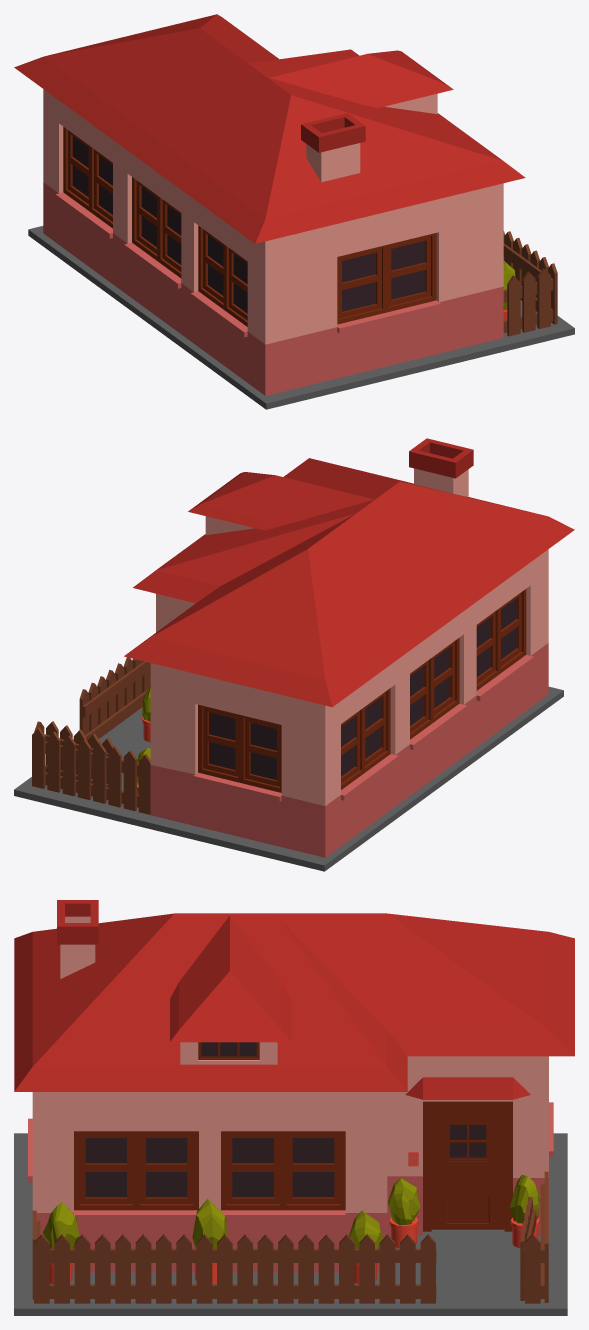
Rendered from low_poly_house_3.glb.
3 views of the same model, one above another, from view 1: azimuth 30°, elevation 25°; view 2: azimuth 150°, elevation 25°; view 3: azimuth 270°, elevation 25° (orthographic). The views are drawn at different scales.
Parts seen in each view (by area): view 1: PublicBuilding_5; view 2: PublicBuilding_5; view 3: PublicBuilding_5.
Part boxes in pixels (<box>): PublicBuilding_5: <box>14,14,574,409</box>; PublicBuilding_5: <box>14,438,574,871</box>; PublicBuilding_5: <box>14,900,574,1315</box>.
Size of what is drawn, in the model's own units: 3.68 by 2.66 by 4.81.
Materials: 1 (1 with a texture image).
